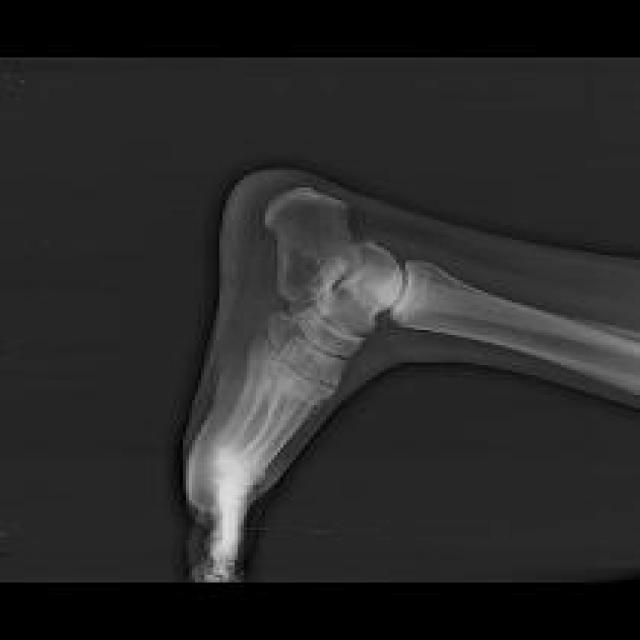normal: (199, 189, 401, 581), (391, 262, 640, 394)
